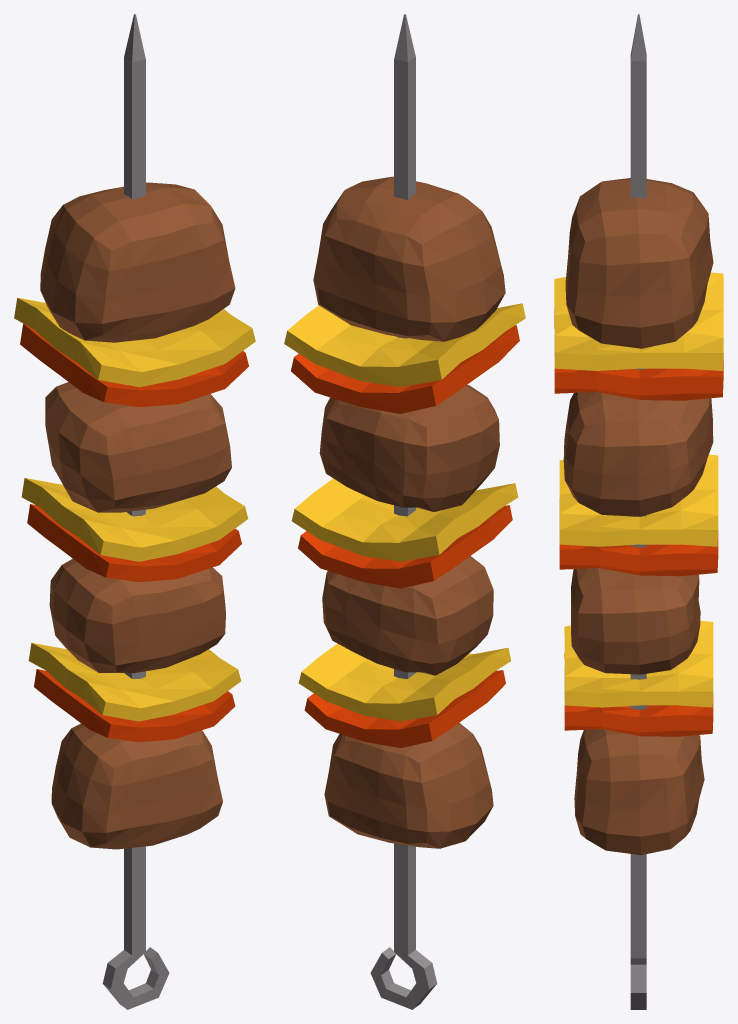
Rendered from Kebab.glb.
3 views of the same model, side by side, from view 1: azimuth 30°, elevation 25°; view 2: azimuth 150°, elevation 25°; view 3: azimuth 270°, elevation 25° (orthographic).
Parts seen in each view (by area): view 1: Node; view 2: Node; view 3: Node.
Part boxes in pixels (left/top/right/bottom): Node: left=14, top=14, right=255, bottom=1009; Node: left=284, top=14, right=525, bottom=1009; Node: left=554, top=14, right=723, bottom=1009.
Size of the model in its own units: 0.893 by 5.19 by 0.8047.
